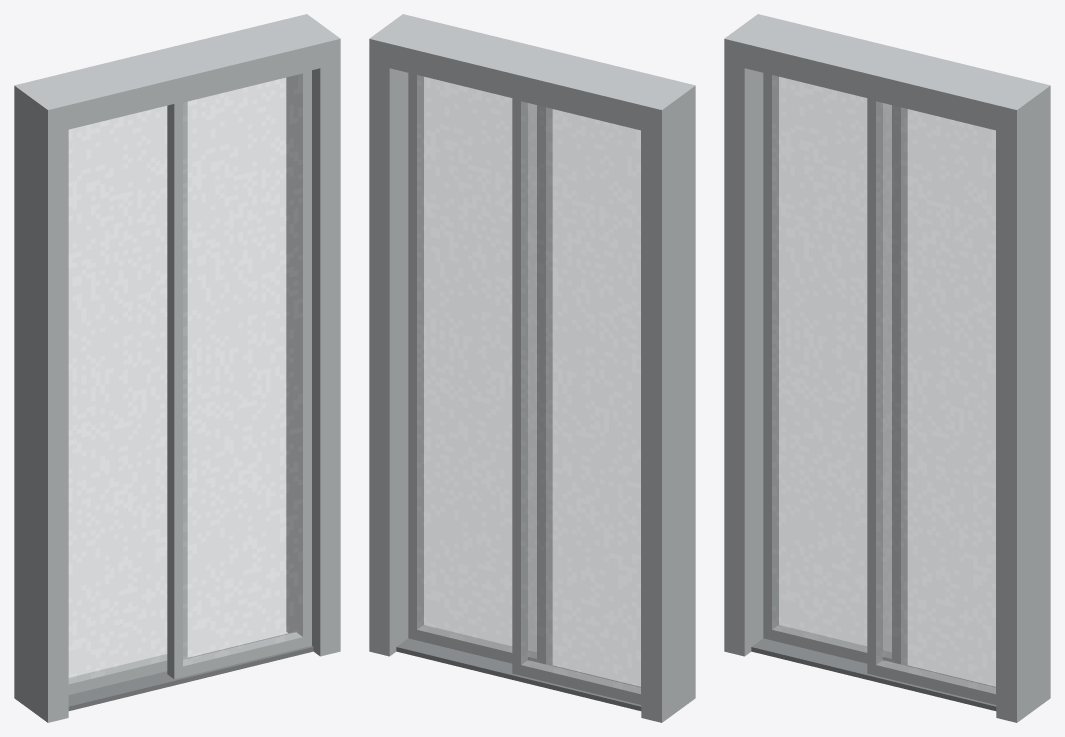
File: t_door_glass_frosted_lab_c.glb
3 views of the same model, side by side, from view 1: azimuth 30°, elevation 25°; view 2: azimuth 150°, elevation 25°; view 3: azimuth 330°, elevation 25° (orthographic).
Visible parts, largest first — view 1: block_slider-glass, block_fixed-glass, block_jamb-1, block_jamb1, block_head, block_slider-stile-0.04, block_slider-stile0.4, block_track, block_fixed-stile0.010000000000000002, block_slider-rail, block_fixed-rail; view 2: block_fixed-glass, block_slider-glass, block_jamb-1, block_jamb1, block_head, block_fixed-stile0.010000000000000002, block_slider-stile0.4, block_slider-stile-0.04, block_track, block_fixed-rail, block_slider-rail, block_fixed-stile-0.43; view 3: block_slider-glass, block_fixed-glass, block_jamb1, block_jamb-1, block_head, block_slider-stile-0.04, block_fixed-stile-0.43, block_fixed-stile0.010000000000000002, block_track, block_slider-rail, block_fixed-rail, block_slider-stile0.4.
Boxes of the visible parts, x1=… form: block_slider-glass: x1=183, y1=73, x2=302, y2=666; block_fixed-glass: x1=68, y1=106, x2=167, y2=684; block_jamb-1: x1=14, y1=80, x2=68, y2=722; block_jamb1: x1=286, y1=14, x2=340, y2=656; block_head: x1=35, y1=19, x2=320, y2=129; block_slider-stile-0.04: x1=167, y1=102, x2=182, y2=678; block_slider-stile0.4: x1=296, y1=70, x2=311, y2=647; block_track: x1=68, y1=632, x2=313, y2=710; block_fixed-stile0.010000000000000002: x1=183, y1=102, x2=187, y2=659; block_slider-rail: x1=167, y1=632, x2=311, y2=679; block_fixed-rail: x1=68, y1=654, x2=186, y2=694; block_fixed-glass: x1=521, y1=101, x2=640, y2=693; block_slider-glass: x1=417, y1=75, x2=536, y2=658; block_jamb-1: x1=641, y1=80, x2=695, y2=722; block_jamb1: x1=369, y1=14, x2=422, y2=656; block_head: x1=389, y1=19, x2=674, y2=129; block_fixed-stile0.010000000000000002: x1=512, y1=98, x2=527, y2=675; block_slider-stile0.4: x1=408, y1=73, x2=423, y2=640; block_slider-stile-0.04: x1=537, y1=105, x2=552, y2=665; block_track: x1=396, y1=638, x2=641, y2=710; block_fixed-rail: x1=521, y1=660, x2=641, y2=704; block_slider-rail: x1=408, y1=625, x2=551, y2=665; block_fixed-stile-0.43: x1=641, y1=131, x2=641, y2=704; block_slider-glass: x1=876, y1=101, x2=995, y2=693; block_fixed-glass: x1=772, y1=75, x2=891, y2=658; block_jamb1: x1=996, y1=80, x2=1050, y2=722; block_jamb-1: x1=724, y1=14, x2=777, y2=656; block_head: x1=744, y1=19, x2=1029, y2=129; block_slider-stile-0.04: x1=867, y1=98, x2=882, y2=675; block_fixed-stile-0.43: x1=763, y1=73, x2=778, y2=640; block_fixed-stile0.010000000000000002: x1=892, y1=105, x2=907, y2=665; block_track: x1=751, y1=638, x2=996, y2=710; block_slider-rail: x1=876, y1=660, x2=996, y2=704; block_fixed-rail: x1=763, y1=625, x2=906, y2=665; block_slider-stile0.4: x1=996, y1=131, x2=996, y2=704.
Bounding box in the file's own units: 1 × 2 × 0.2.
Materials: 2 (2 with a texture image).
